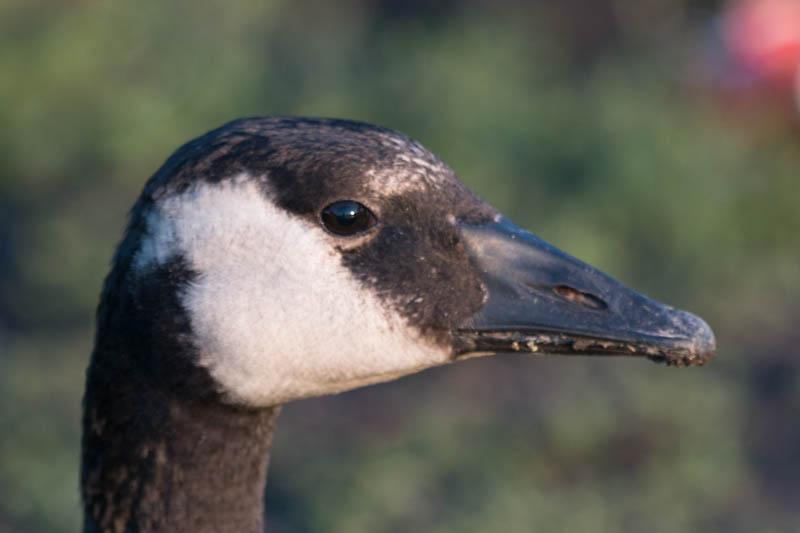goose-head: (83, 114, 718, 413)
